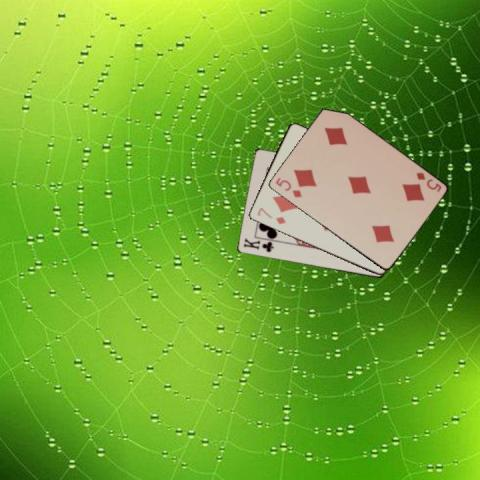5d: (273, 174, 303, 199), (412, 169, 442, 194)
7d: (254, 205, 287, 226)
Kc: (241, 235, 274, 254)
